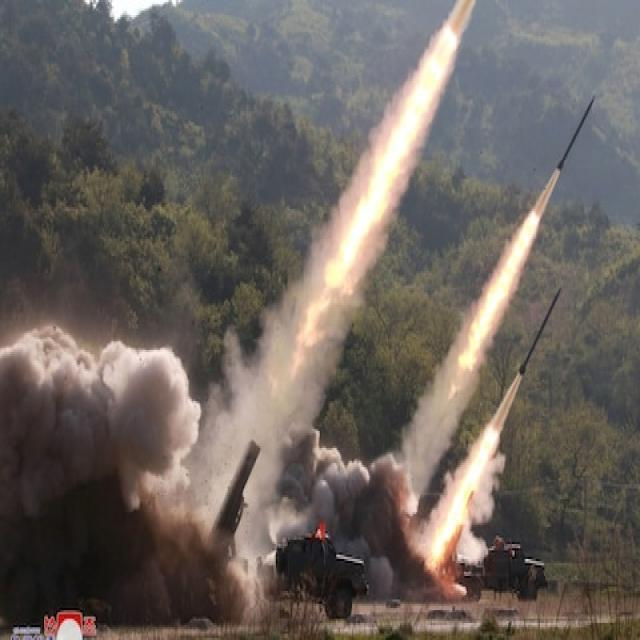missile: (513, 278, 570, 390), (543, 87, 600, 180)
